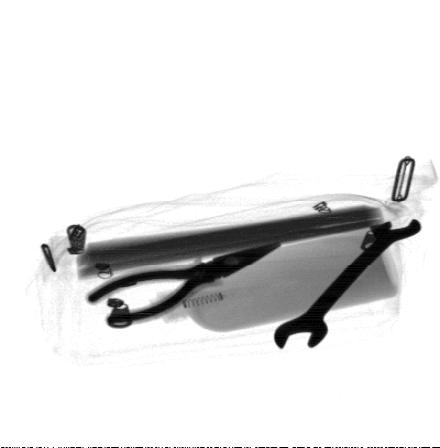Pliers: (87, 240, 285, 322)
Wrench: (274, 218, 422, 350)
